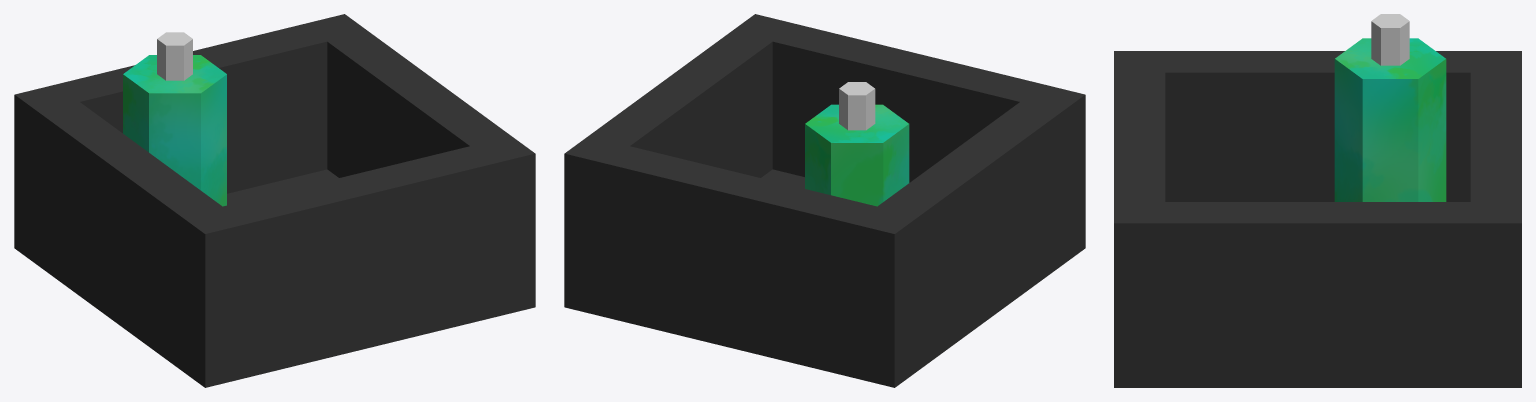
File: Prop_Small_Box.glb
3 renders of one model, left to right at view 1: azimuth 30°, elevation 25°; view 2: azimuth 150°, elevation 25°; view 3: azimuth 270°, elevation 25°, orthographic. The views are drawn at different scales.
Parts seen in each view (by area): view 1: Prop_Small_BoxBottle; view 2: Prop_Small_BoxBottle; view 3: Prop_Small_BoxBottle.
Boxes of the visible parts, x1,y1,x2,y2 form: Prop_Small_BoxBottle: [14, 14, 535, 387]; Prop_Small_BoxBottle: [564, 14, 1085, 387]; Prop_Small_BoxBottle: [1114, 14, 1521, 387].
Size of the model in its own units: 0.4501 by 0.2998 by 0.4501.
Materials: 1 (1 with a texture image).
